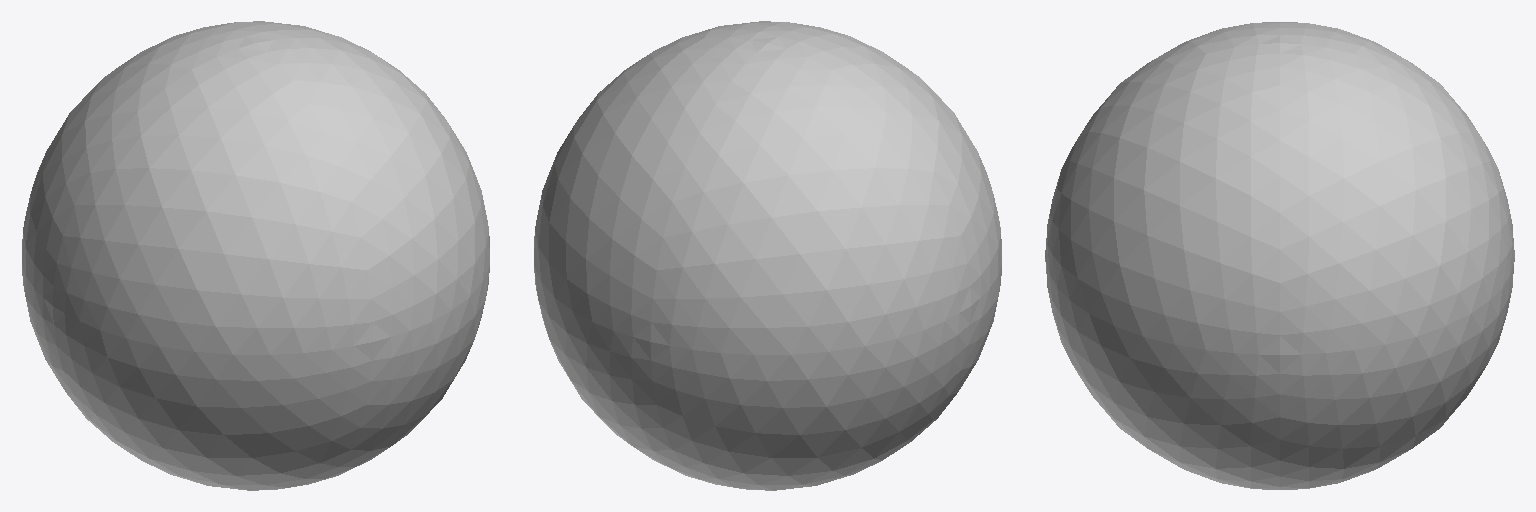
The model's file is ball.obj.
The picture shows the model from 3 angles: view 1: azimuth 30°, elevation 25°; view 2: azimuth 150°, elevation 25°; view 3: azimuth 270°, elevation 25°; orthographic projection.
Size of the model in its own units: 0.578 by 0.578 by 0.578.